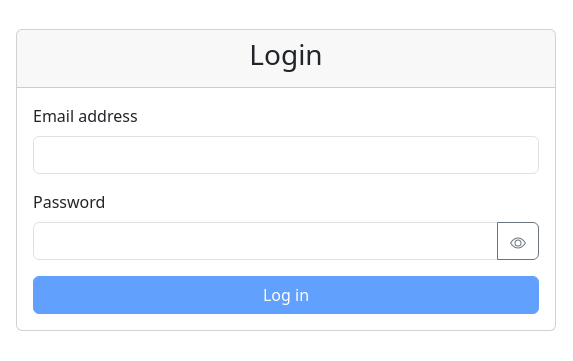
Scenario: LoginPage unhappy paths › field errors only appear after the field is touched (blurred) or on submit
The image size is (573, 361).
Check: the text "email is required" is not shown
Click the field labelled "Email address": (286, 155) [33,136,539,174]
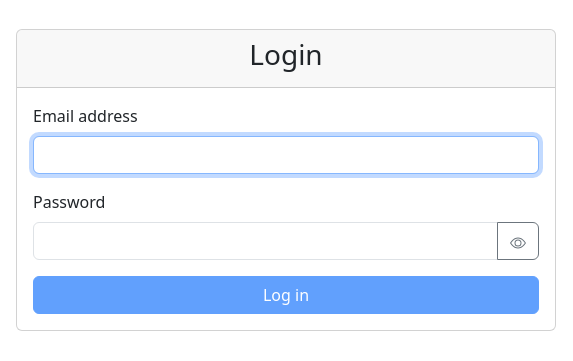
Press Tab
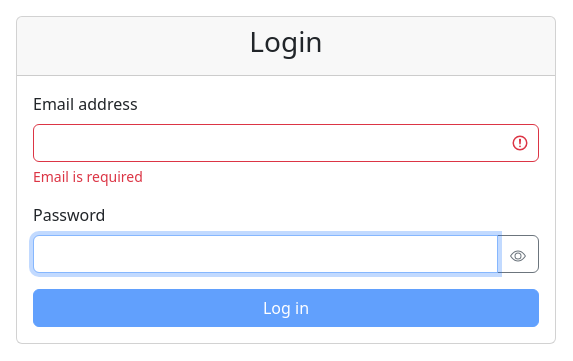
Check: the text "Email is required" is shown, box [33,167,143,186]
